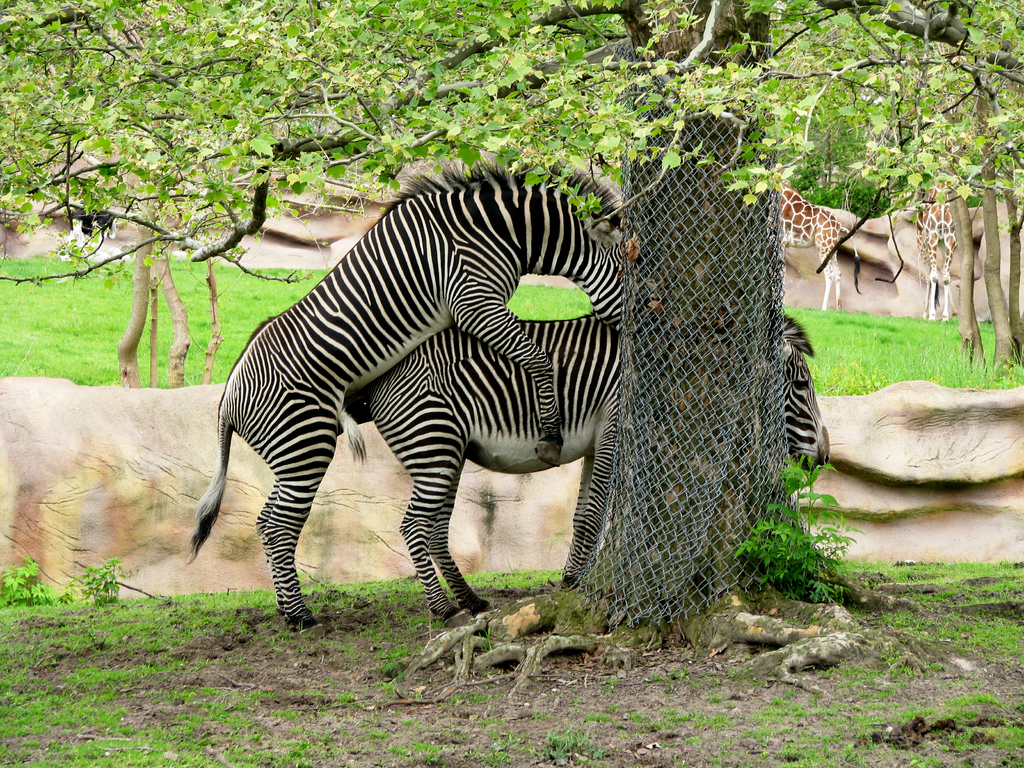Tree: (0, 1, 1023, 689)
